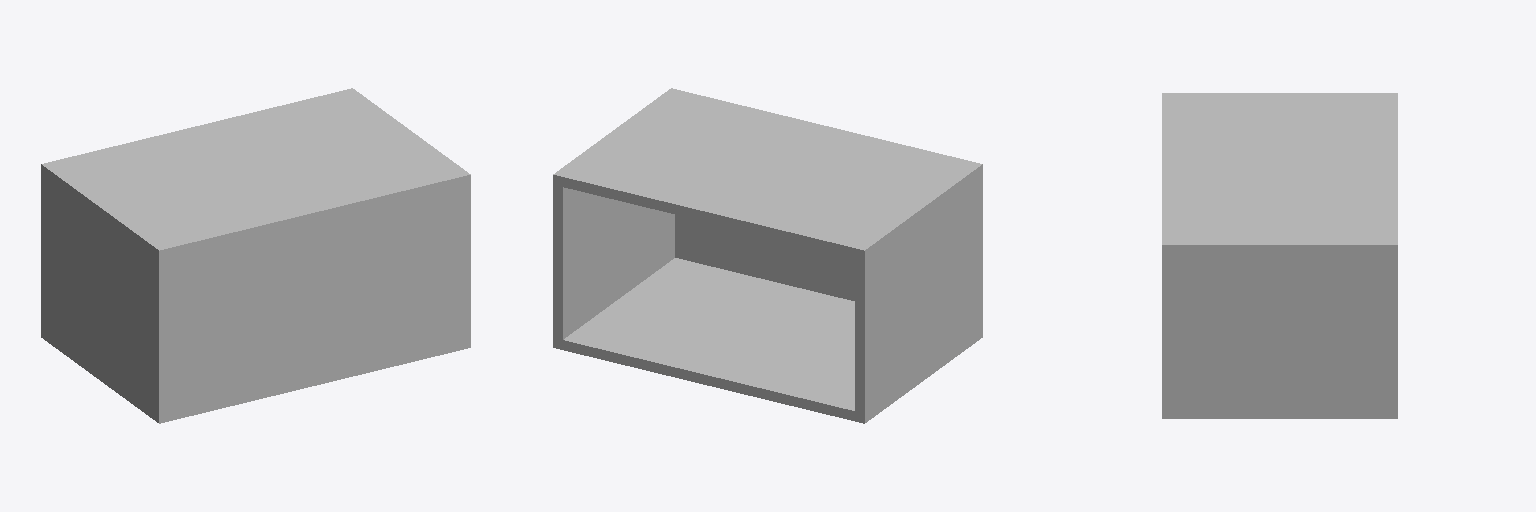
Rendered from departureBay.obj.
3 renders of one model, left to right at view 1: azimuth 30°, elevation 25°; view 2: azimuth 150°, elevation 25°; view 3: azimuth 270°, elevation 25°, orthographic.
Parts seen in each view (by area): view 1: departure_bay ship_v4 ship; view 2: departure_bay ship_v4 ship; view 3: departure_bay ship_v4 ship.
Boxes of the visible parts, <box> form: departure_bay ship_v4 ship: <box>41,88,470,423</box>; departure_bay ship_v4 ship: <box>553,88,982,423</box>; departure_bay ship_v4 ship: <box>1162,93,1397,418</box>.
Bounding box in the file's own units: 12.8 × 6.8 × 8.4.